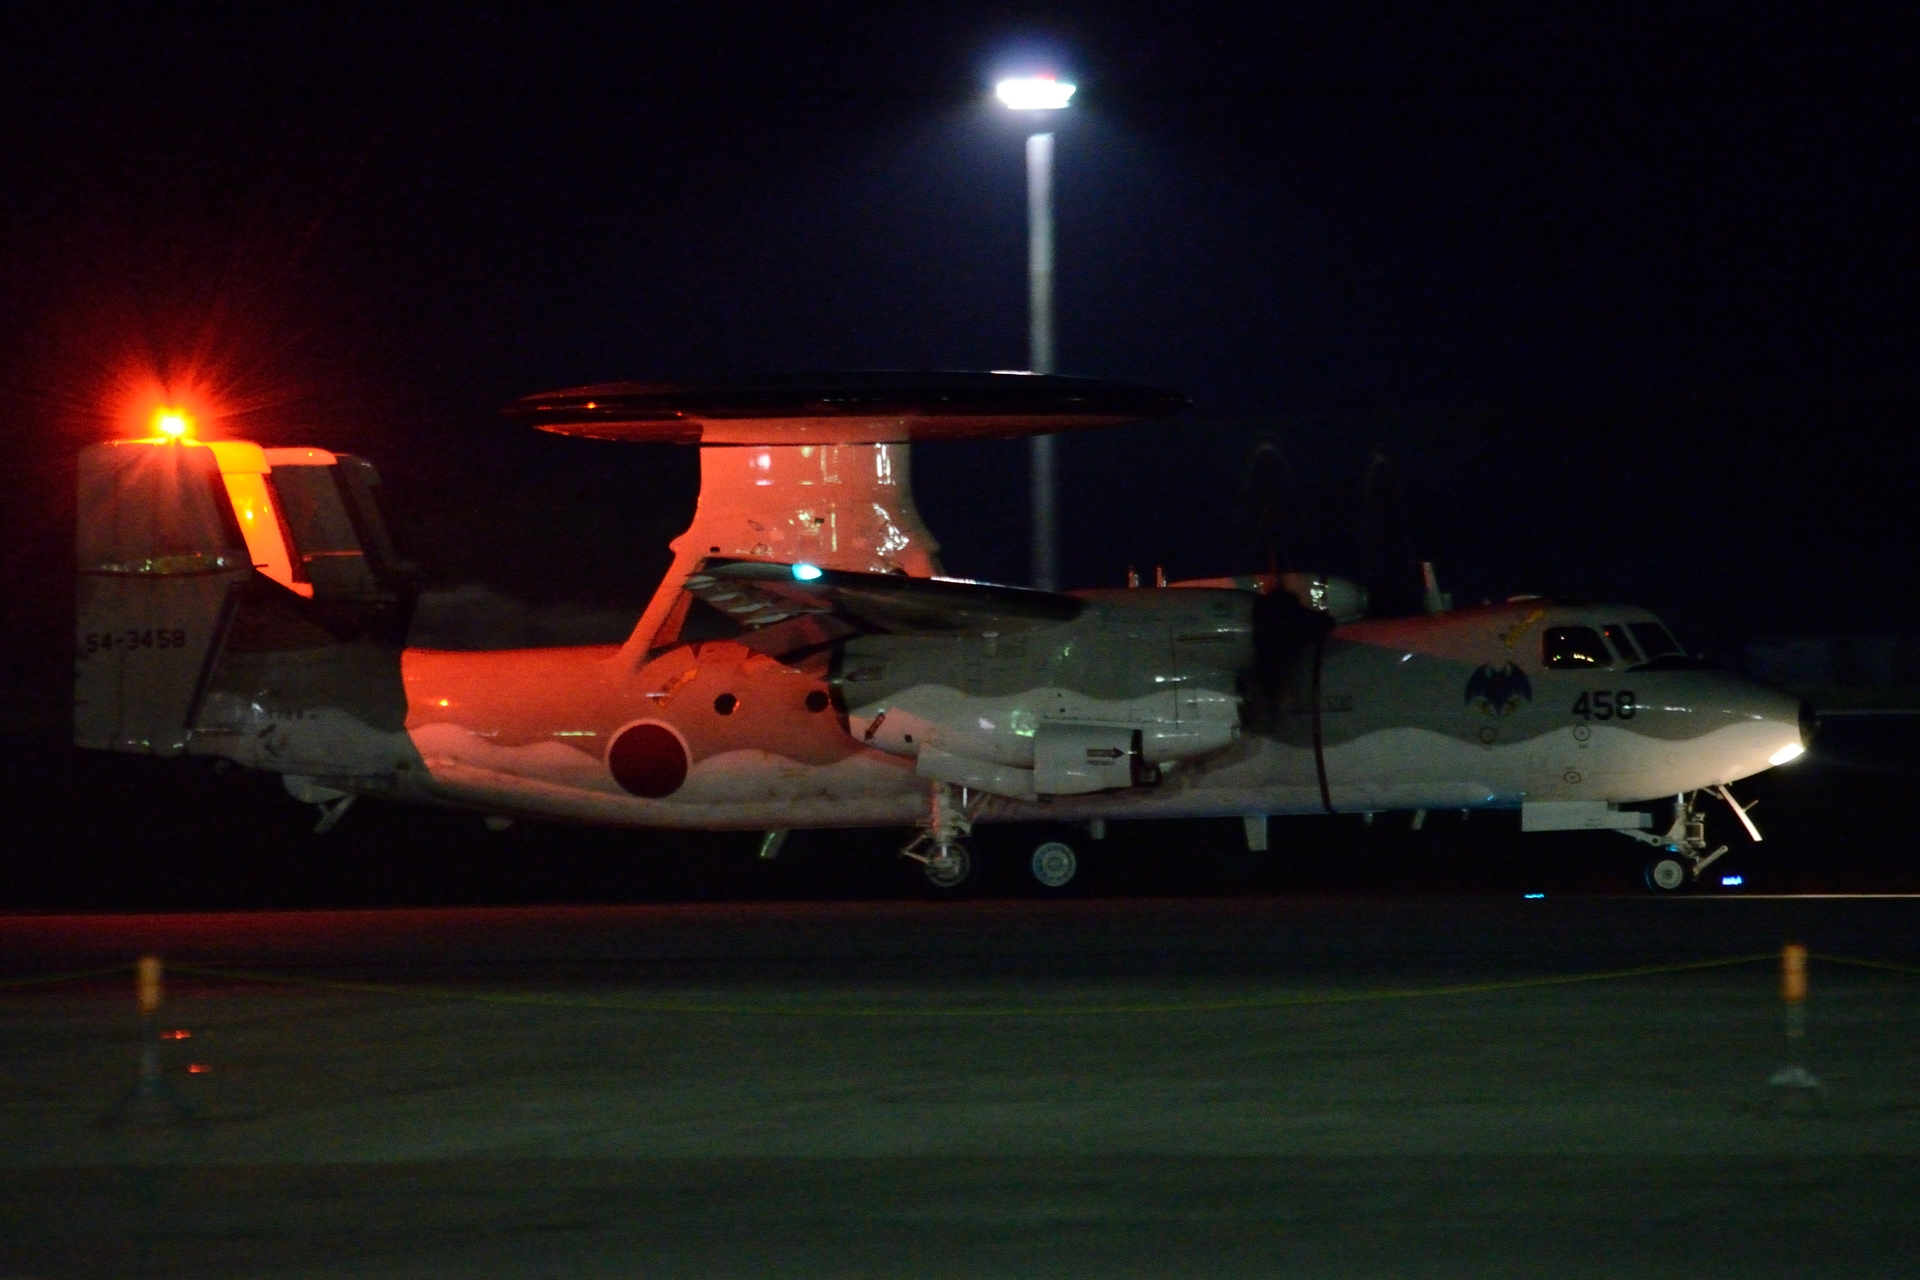E2: (70, 369, 1820, 900)
